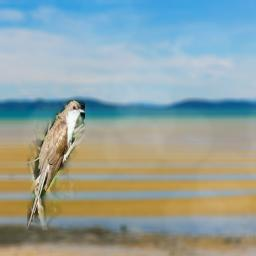Cuckoo: (27, 100, 85, 230)
